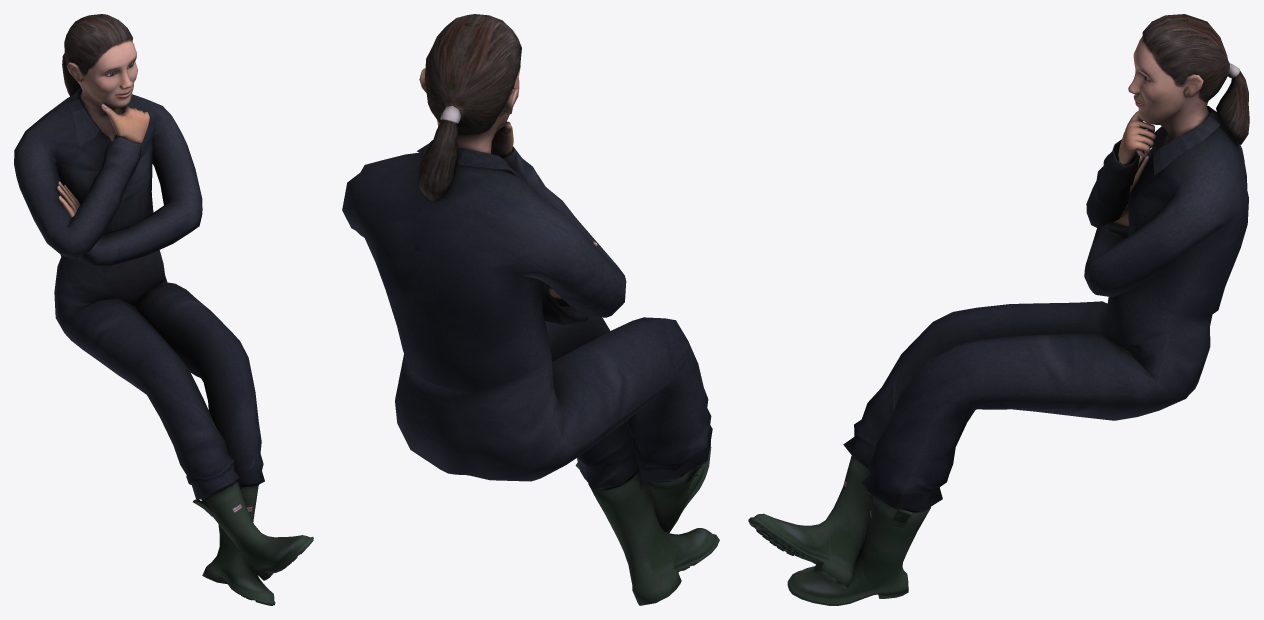
File: SWRK01_09_02.FBX
3 renders of one model, left to right at view 1: azimuth 30°, elevation 25°; view 2: azimuth 150°, elevation 25°; view 3: azimuth 270°, elevation 25°, orthographic. The views are drawn at different scales.
Visible parts, largest first — view 1: SWRK01_09_02; view 2: SWRK01_09_02; view 3: SWRK01_09_02.
Boxes of the visible parts, box(x1,y1,x2,y2) form: SWRK01_09_02: box(14, 14, 313, 605); SWRK01_09_02: box(342, 14, 719, 605); SWRK01_09_02: box(748, 14, 1249, 605).
Size of the model in its own units: 18.31 by 51.25 by 40.45.
Materials: 1 (1 with a texture image).
